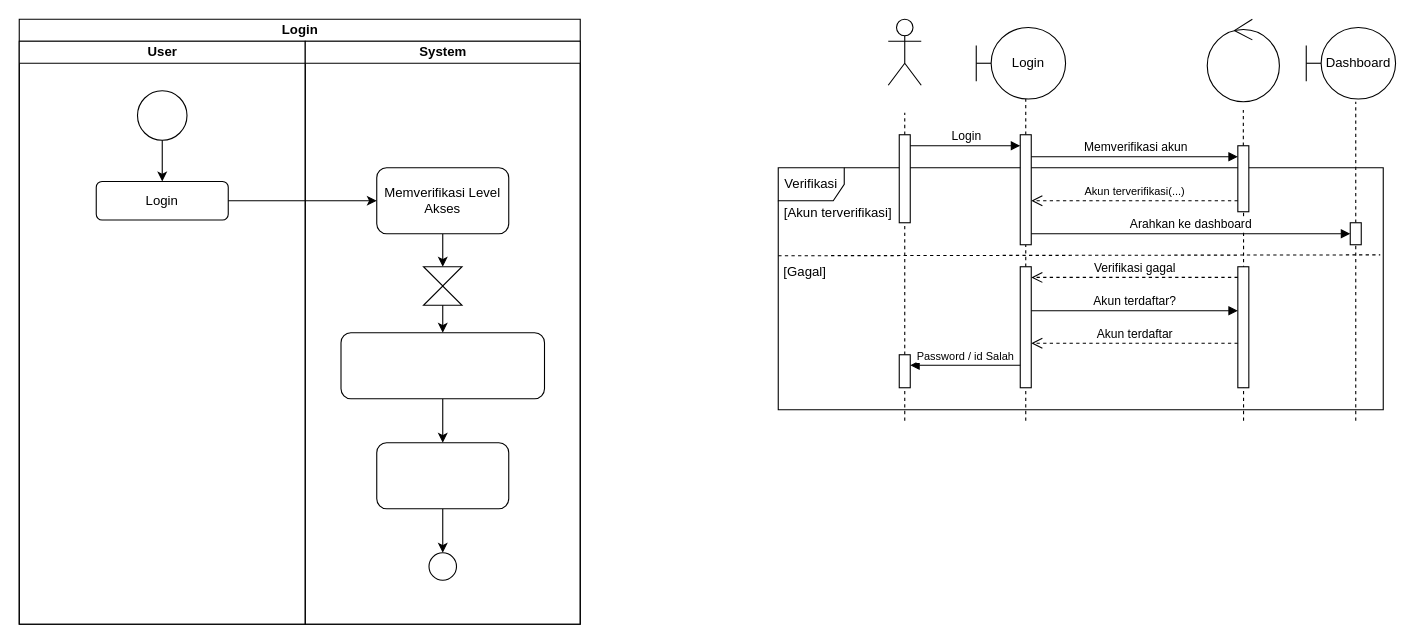
Image size: 1416x644. Some labels were removed from this diagram. Each missing label, with the centre of its shape:
"Acc sistem" goes at (x=1242, y=60).
"Actor" goes at (x=904, y=51).
"Level Akses Diverifikasi sebagai (Admin/Apoteker/Manajer)" goes at (x=442, y=365).
"Menampilkan Dashboard" goes at (x=442, y=475).
